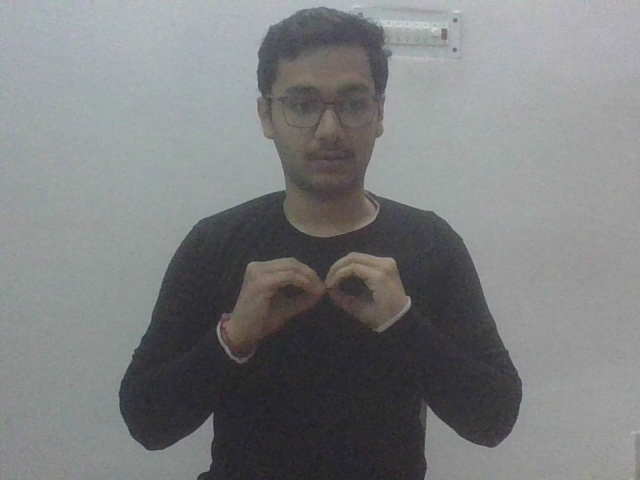B: (216, 242, 413, 362)
